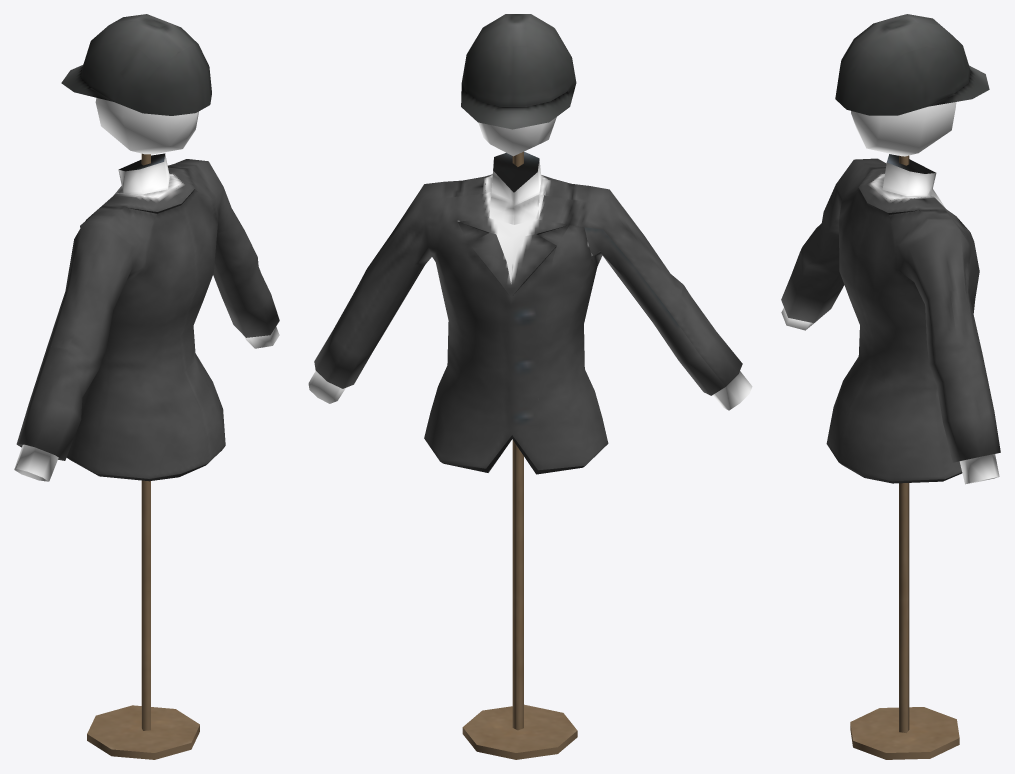
File: manequin.FBX
3 renders of one model, left to right at view 1: azimuth 30°, elevation 25°; view 2: azimuth 150°, elevation 25°; view 3: azimuth 270°, elevation 25°, orthographic.
Parts seen in each view (by area): view 1: manequin; view 2: manequin; view 3: manequin.
Boxes of the visible parts, x1,y1,x2,y2 form: manequin: (14, 14, 279, 759); manequin: (308, 14, 752, 759); manequin: (781, 14, 1000, 759).
Bounding box in the file's own units: 100 × 195 × 54.15.
1 material, 1 textured.
